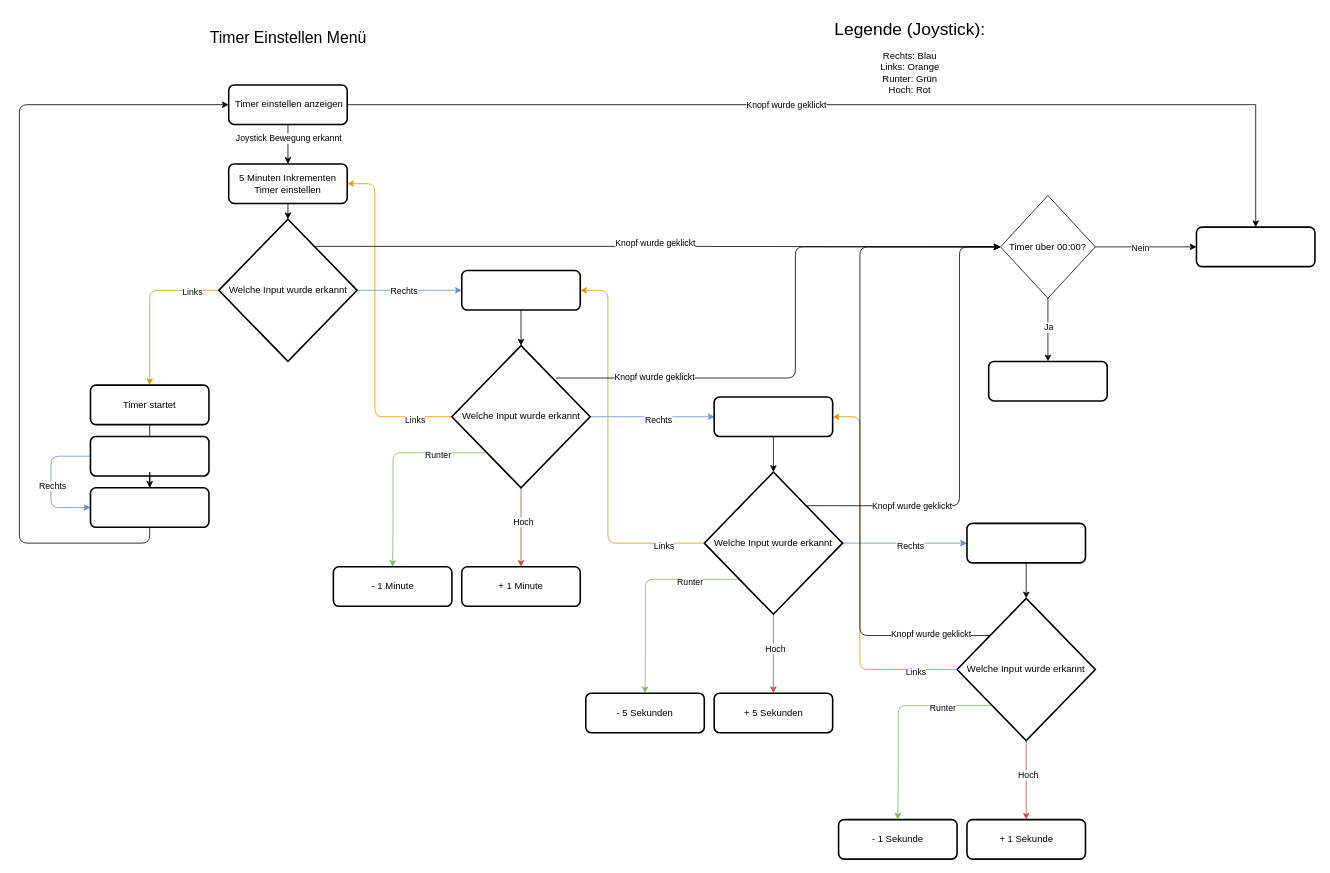
The diagram is 1330 pixels wide and 873 high, and some of its shapes have lost their labels. Here are the shapes that lost their labels. From the top down, the centre of each, then its label:
point 1255,246: Datum & Uhrzeit Menü anzeigen
point 521,289: 1 Minute Inkrementen Timer einstellen
point 1048,380: Nichts unternehmen
point 773,416: 5 Sekunden Inkrementen Timer einstellen
point 149,455: Timer läuft
point 149,507: Timer endet
point 1026,542: 1 Sekunde Inkrementen Timer einstellen
